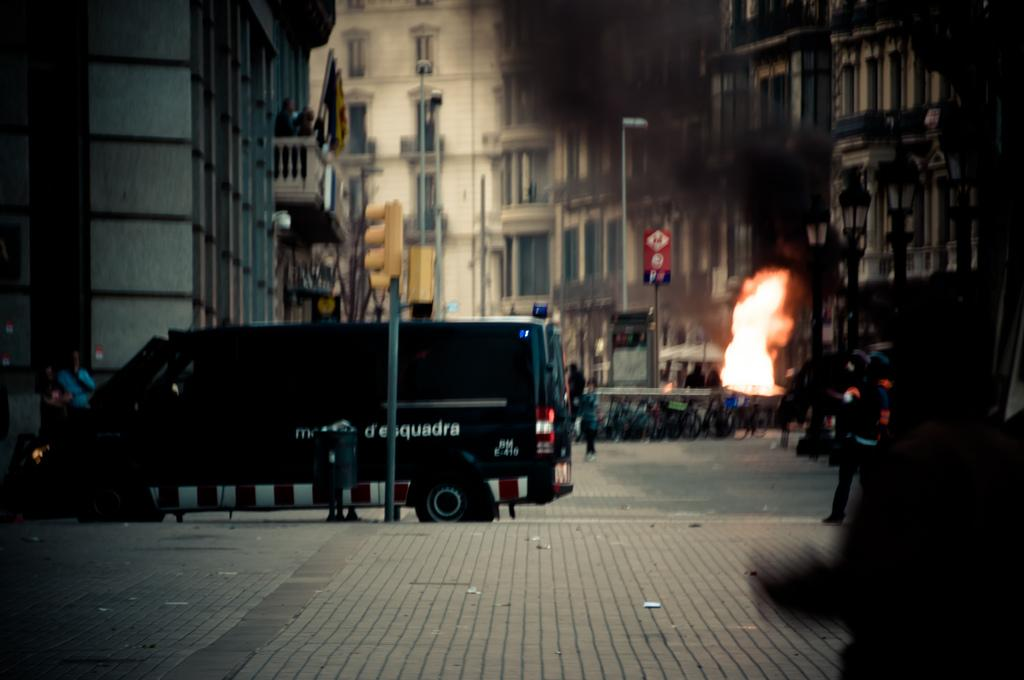fire: (735, 282, 787, 390)
